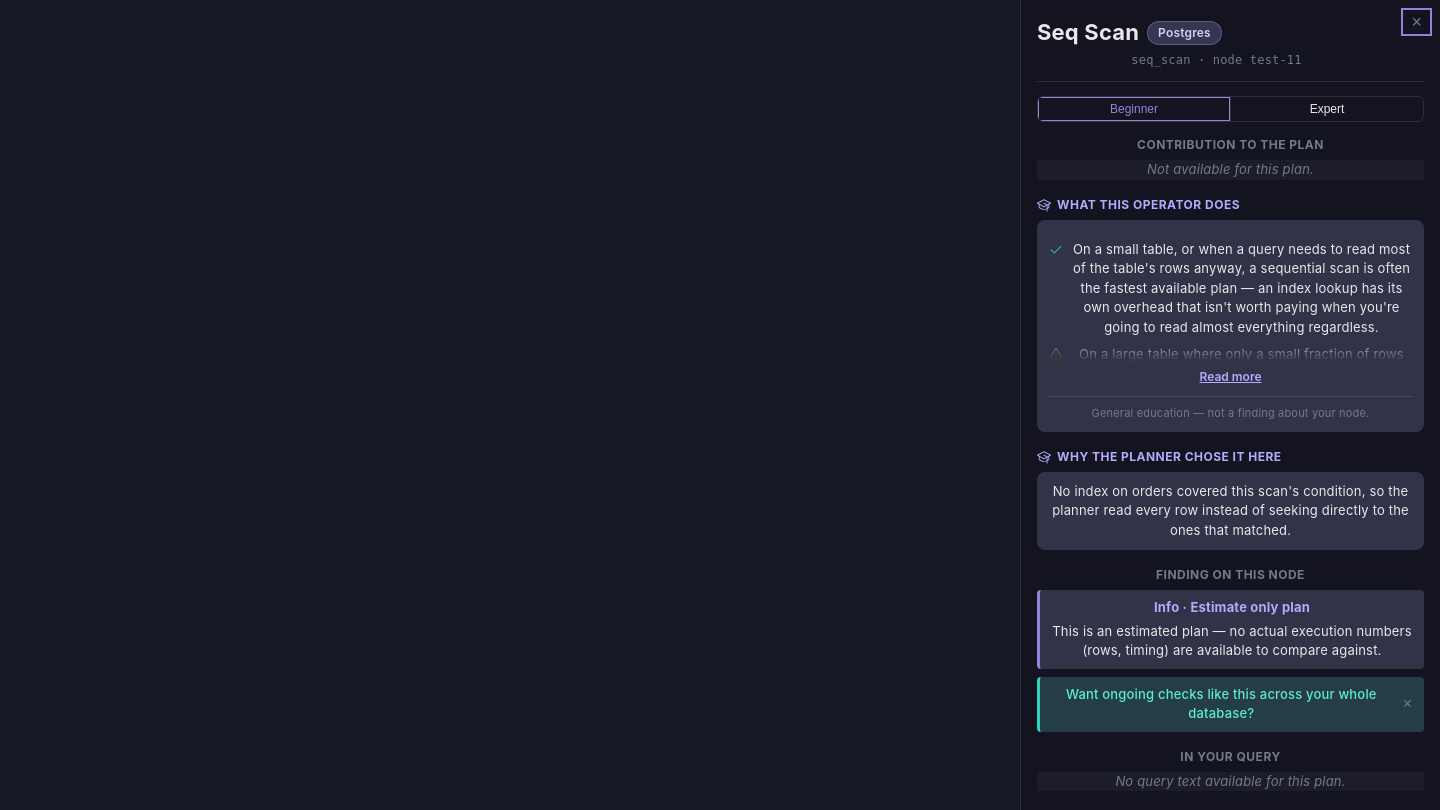
Test case: DetailPanel › hides raw attributes in Beginner mode and reveals them, EXPANDED, in Expert mode (Story 18.7, spec §1f)
Click the button "Expert".
click(1326, 109)  # box [1230, 97, 1423, 121]
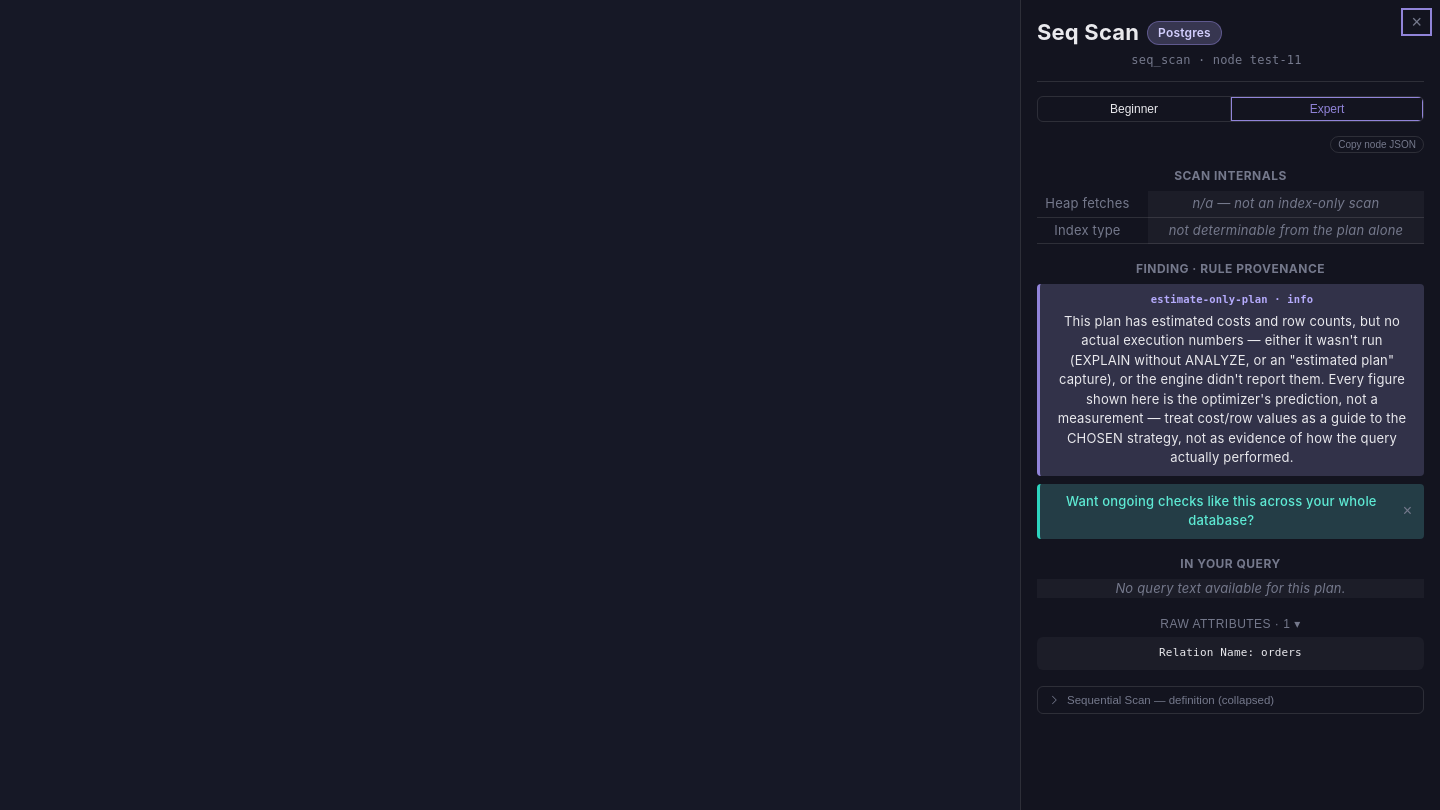
Expected: the element with test id "raw-attributes" is shown, [1037, 614, 1424, 670]
Expected: the text "Relation Name: orders" is shown, [1037, 637, 1424, 670]
# Still manually collapsible afterward.
Click the button "Raw attributes · 1 ▾".
click(1230, 624)  # box [1160, 617, 1301, 631]
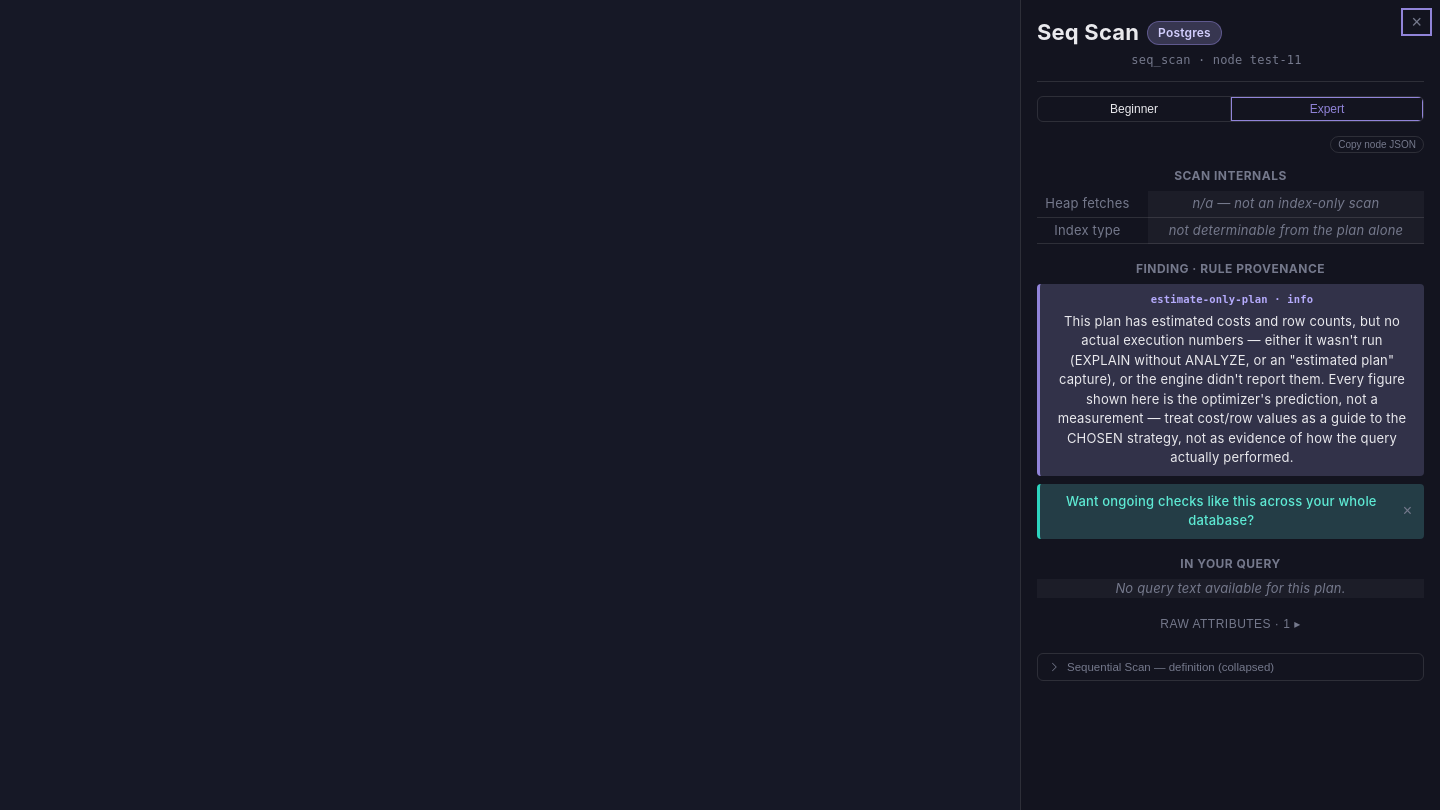
Expected: the text "Relation Name: orders" is gone
